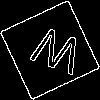W: (25, 25, 86, 85)
